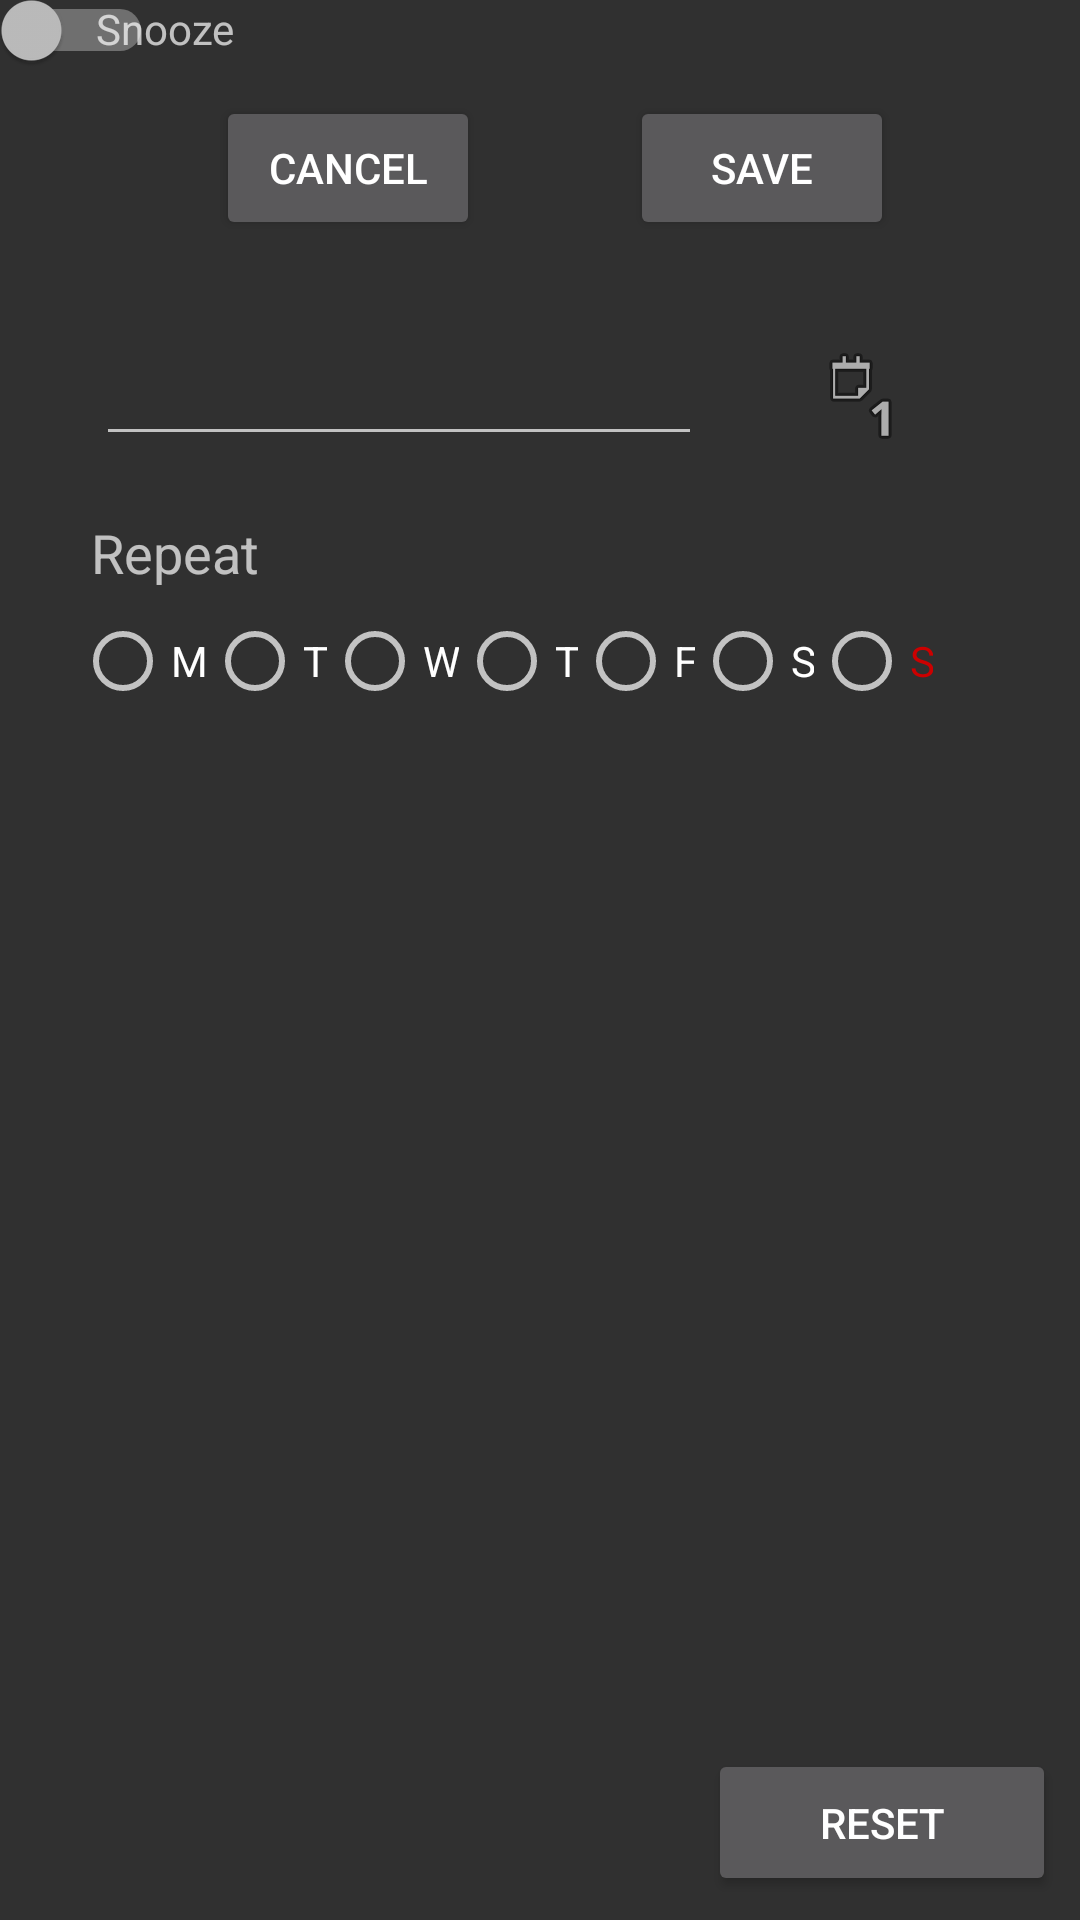

Icon click points for this 1080px x 1920px phone screenshot, format point (x, y):
day: point (860, 396)
